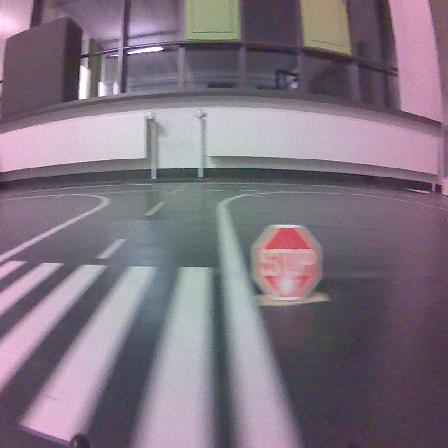STOP: (251, 225, 321, 299)
